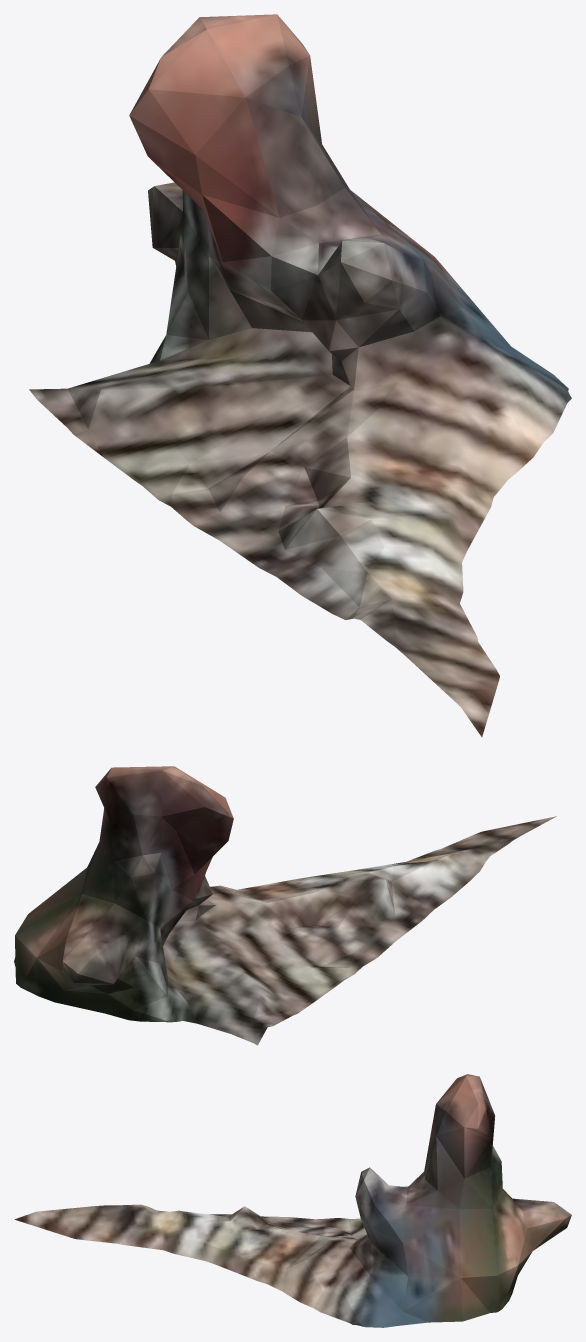
The picture shows the model from 3 angles, top to bottom: view 1: azimuth 30°, elevation 25°; view 2: azimuth 150°, elevation 25°; view 3: azimuth 270°, elevation 25°; orthographic projection. The views are drawn at different scales.
Size of the model in its own units: 1.61 by 1.28 by 3.5.
1 material, 1 textured.
